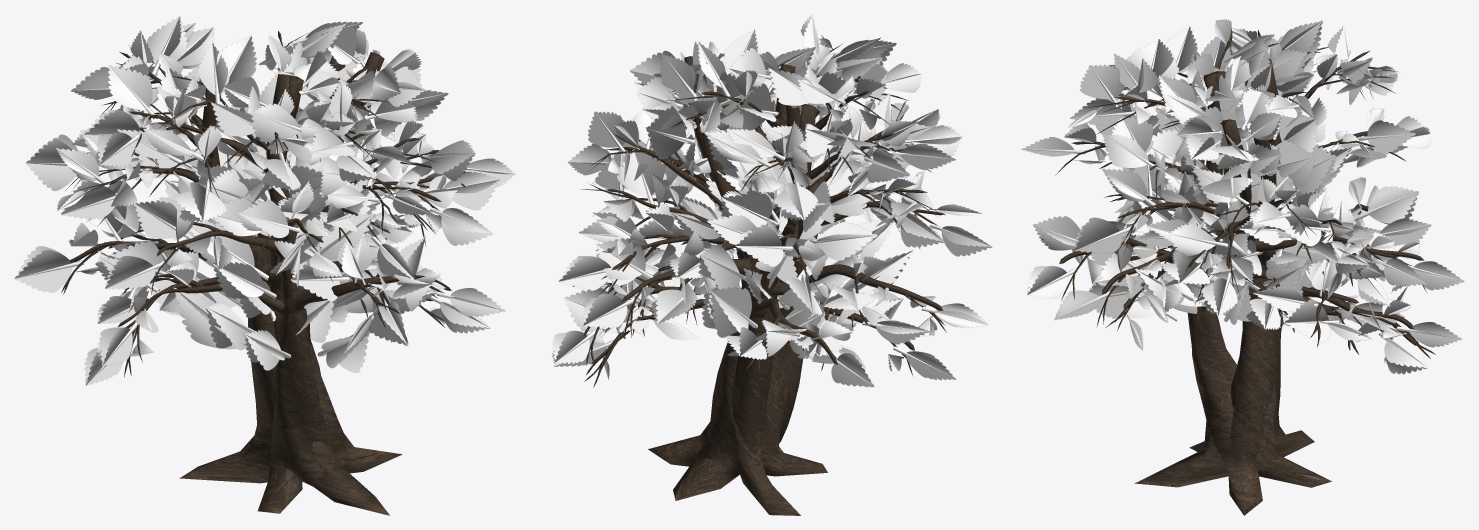
Rendered from NaturalTree3.glb.
3 renders of one model, left to right at view 1: azimuth 30°, elevation 25°; view 2: azimuth 150°, elevation 25°; view 3: azimuth 270°, elevation 25°, orthographic. The views are drawn at different scales.
Visible parts, largest first — view 1: sprite_0089_2, bark_willow_diff_1k_0; view 2: sprite_0089_2, bark_willow_diff_1k_0; view 3: sprite_0089_2, bark_willow_diff_1k_0.
Part boxes in pixels (x1,y1,x2,y2): sprite_0089_2: (14, 16, 515, 385); bark_willow_diff_1k_0: (17, 17, 510, 515); sprite_0089_2: (552, 14, 992, 387); bark_willow_diff_1k_0: (555, 31, 987, 515); sprite_0089_2: (1021, 19, 1464, 374); bark_willow_diff_1k_0: (1021, 23, 1460, 515).
Size of the model in its own units: 7.16 by 6.94 by 6.74.
3 materials, 2 textured.
